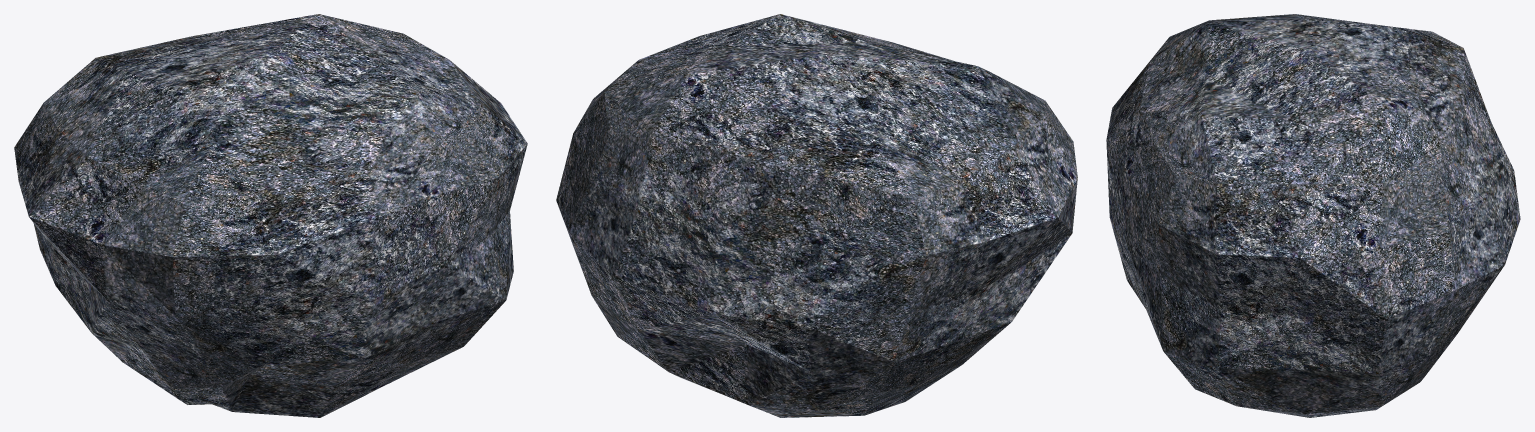
File: asteroid_iron_radial_s01_l0.fbx
The picture shows the model from 3 angles, left to right: view 1: azimuth 30°, elevation 25°; view 2: azimuth 150°, elevation 25°; view 3: azimuth 270°, elevation 25°; orthographic projection. The views are drawn at different scales.
Visible parts, largest first — view 1: mesh_node; view 2: mesh_node; view 3: mesh_node.
Part boxes in pixels (x1=…): mesh_node: x1=14, y1=14, x2=527, y2=417; mesh_node: x1=556, y1=14, x2=1077, y2=417; mesh_node: x1=1106, y1=14, x2=1520, y2=417.
Bounding box in the file's own units: 2.77 × 1.98 × 2.2.
